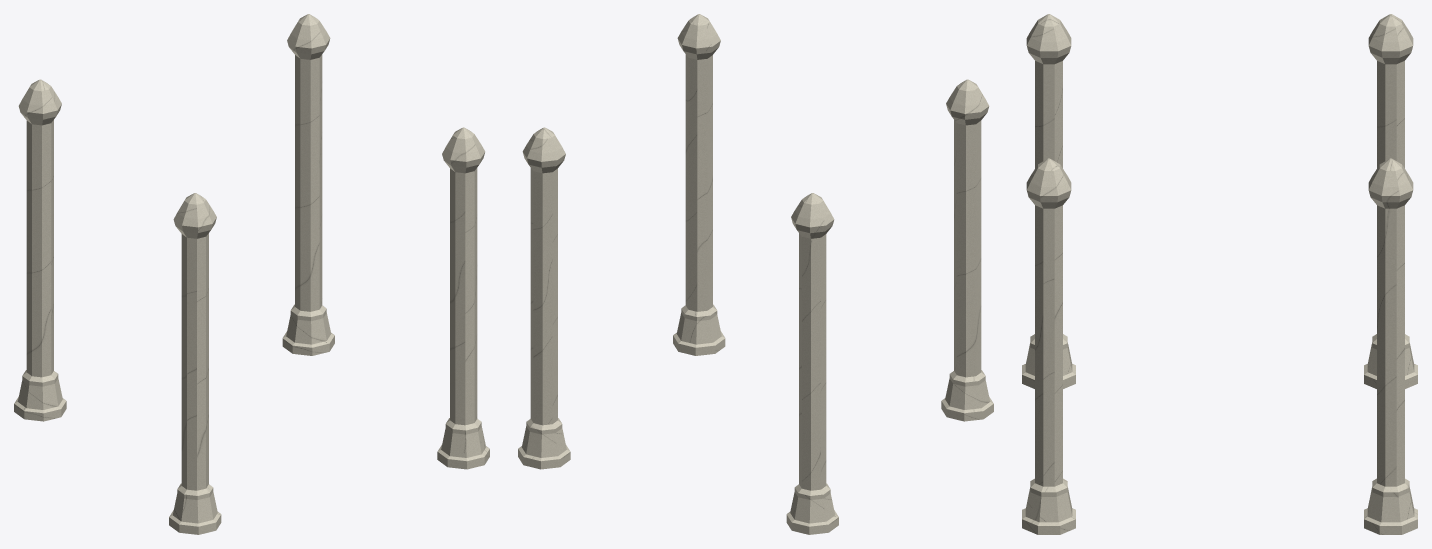
3 views of the same model, side by side, from view 1: azimuth 30°, elevation 25°; view 2: azimuth 150°, elevation 25°; view 3: azimuth 270°, elevation 25° (orthographic). The views are drawn at different scales.
Visible parts, largest first — view 1: Marble pier stepped octagonal facing.002, Marble pier stepped octagonal facing.001, Marble pier stepped octagonal facing.003, Marble pier stepped octagonal facing; view 2: Marble pier stepped octagonal facing.003, Marble pier stepped octagonal facing, Marble pier stepped octagonal facing.002, Marble pier stepped octagonal facing.001; view 3: Marble pier stepped octagonal facing.002, Marble pier stepped octagonal facing.003, Marble pier stepped octagonal facing, Marble pier stepped octagonal facing.001.
Part boxes in pixels (box(x1,y1,x2,y2)): Marble pier stepped octagonal facing.002: box(437, 127, 489, 469); Marble pier stepped octagonal facing.001: box(14, 79, 66, 421); Marble pier stepped octagonal facing.003: box(282, 14, 334, 355); Marble pier stepped octagonal facing: box(169, 193, 221, 534); Marble pier stepped octagonal facing.003: box(518, 127, 570, 469); Marble pier stepped octagonal facing: box(941, 79, 993, 421); Marble pier stepped octagonal facing.002: box(673, 14, 725, 355); Marble pier stepped octagonal facing.001: box(786, 193, 838, 534); Marble pier stepped octagonal facing.002: box(1022, 158, 1075, 534); Marble pier stepped octagonal facing.003: box(1364, 158, 1417, 534); Marble pier stepped octagonal facing: box(1022, 14, 1075, 388); Marble pier stepped octagonal facing.001: box(1364, 14, 1417, 388).
Bounding box in the file's own units: 3.94 × 4 × 3.94.
Materials: 2 (2 with a texture image).
